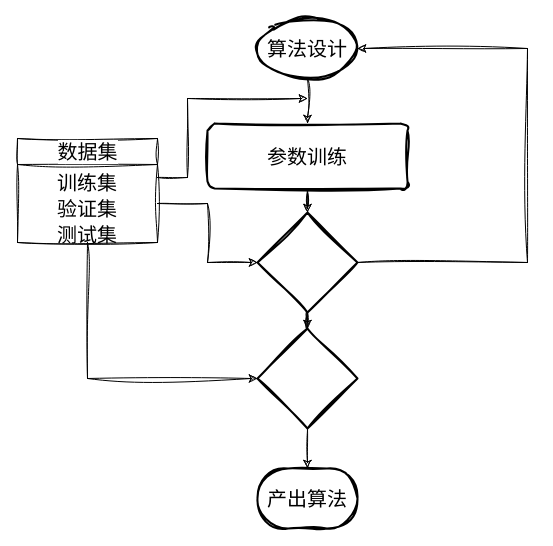
This 553x546 diagram has some shape labels left out. The shapes that lost their labels are listed below. From the top down, each one's centre as x and y in pixels, then its label:
At (307,262): "验证泛化".
At (307,378): "测试指标".
